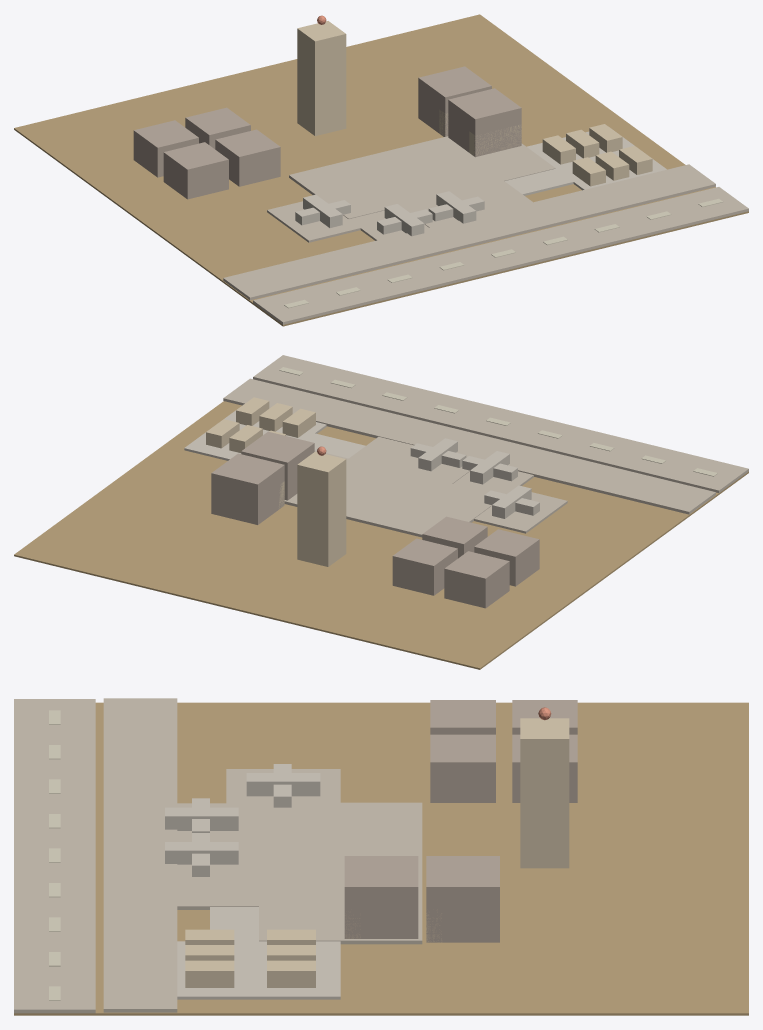
The model's file is stage_17.glb.
The picture shows the model from 3 angles, top to bottom: view 1: azimuth 30°, elevation 25°; view 2: azimuth 150°, elevation 25°; view 3: azimuth 270°, elevation 25°; orthographic projection. The views are drawn at different scales.
Visible parts, largest first — view 1: geometry_0; view 2: geometry_0; view 3: geometry_0.
Boxes of the visible parts, box(x1,y1,x2,y2) form: geometry_0: box(14, 14, 748, 326); geometry_0: box(14, 355, 748, 669); geometry_0: box(14, 698, 748, 1015).
Size of the model in its own units: 9 by 2.06 by 9.
